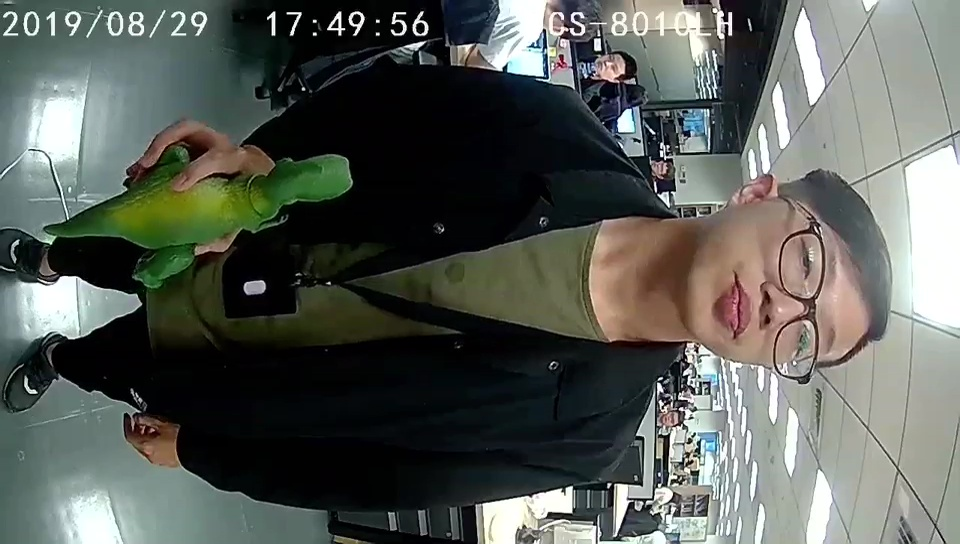rex: (107, 141, 358, 291)
